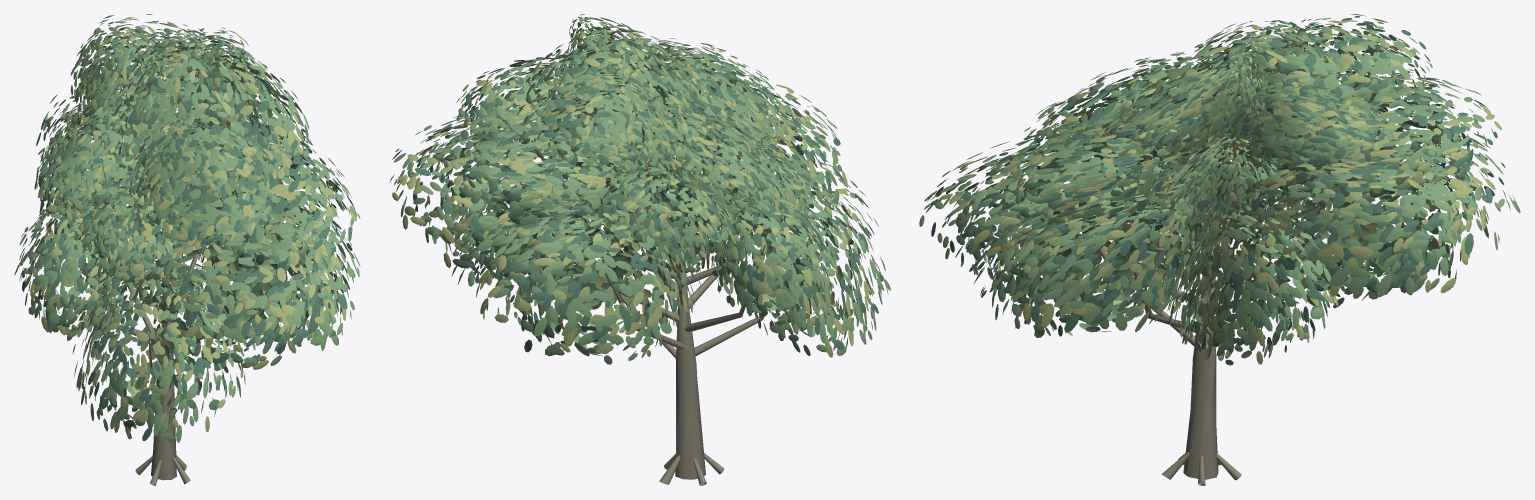
Rendered from grove_1.glb.
The picture shows the model from 3 angles, left to right: view 1: azimuth 30°, elevation 25°; view 2: azimuth 150°, elevation 25°; view 3: azimuth 270°, elevation 25°; orthographic projection. The views are drawn at different scales.
Parts seen in each view (by area): view 1: study_canopy_1_StudyLeafJade, study_canopy_1_StudyLeafDeep, study_canopy_1_StudyLeafGold, study_canopy_1_StudyBark; view 2: study_canopy_1_StudyLeafJade, study_canopy_1_StudyLeafDeep, study_canopy_1_StudyLeafGold, study_canopy_1_StudyBark; view 3: study_canopy_1_StudyLeafJade, study_canopy_1_StudyLeafDeep, study_canopy_1_StudyLeafGold, study_canopy_1_StudyBark.
Part boxes in pixels (<box>): study_canopy_1_StudyLeafJade: <box>19,14,360,443</box>; study_canopy_1_StudyLeafDeep: <box>19,15,354,440</box>; study_canopy_1_StudyLeafGold: <box>14,17,356,432</box>; study_canopy_1_StudyBark: <box>82,87,269,485</box>; study_canopy_1_StudyLeafJade: <box>392,16,890,364</box>; study_canopy_1_StudyLeafDeep: <box>389,17,883,356</box>; study_canopy_1_StudyLeafGold: <box>392,14,888,358</box>; study_canopy_1_StudyBark: <box>522,112,785,485</box>; study_canopy_1_StudyLeafJade: <box>924,14,1520,365</box>; study_canopy_1_StudyLeafDeep: <box>930,20,1505,352</box>; study_canopy_1_StudyLeafGold: <box>919,18,1516,364</box>; study_canopy_1_StudyBark: <box>1081,109,1371,485</box>.
Size of the model in its own units: 8.19 by 10.23 by 11.57.
